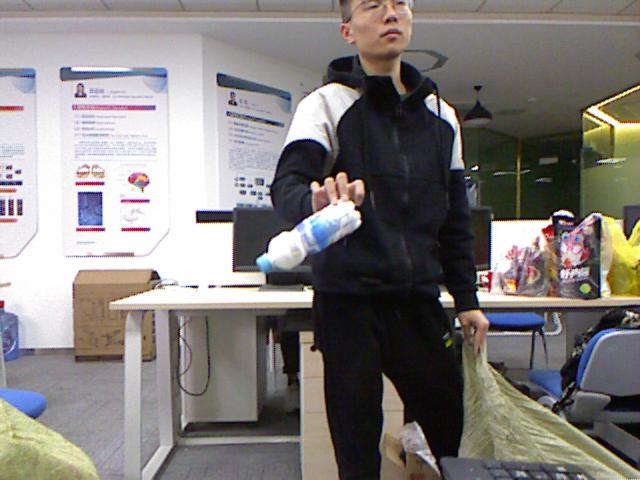cardboard paper: (74, 270, 154, 360)
plastic: (255, 200, 360, 271)
